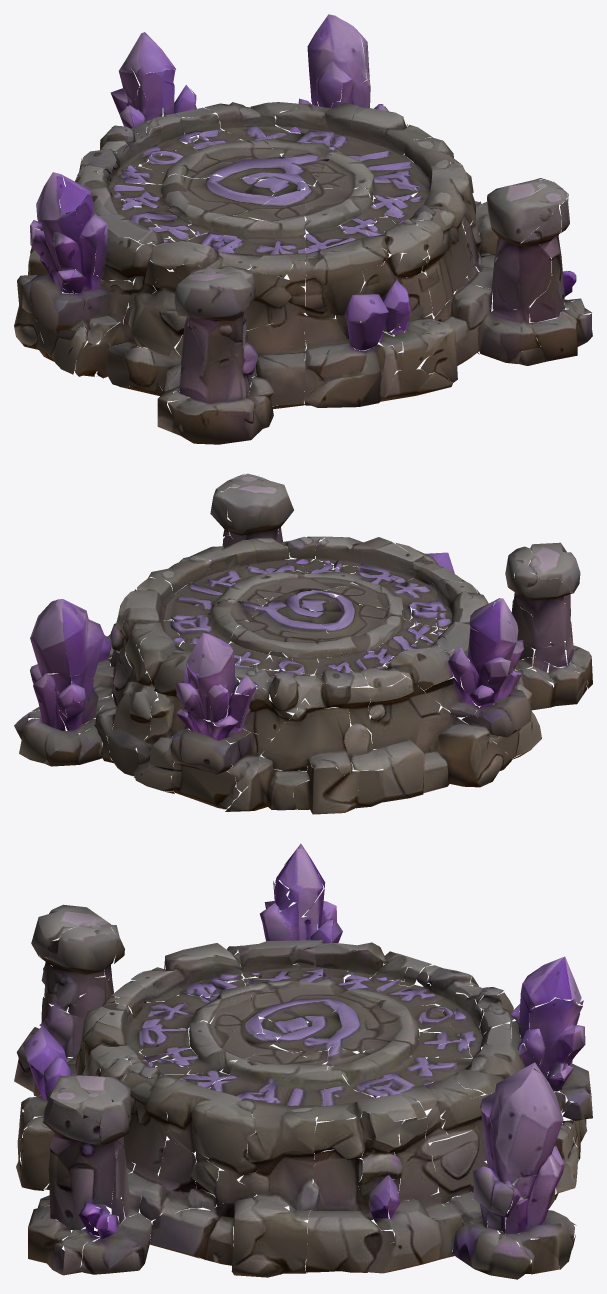
File: anchor-urdan.glb
The picture shows the model from 3 angles, top to bottom: view 1: azimuth 30°, elevation 25°; view 2: azimuth 150°, elevation 25°; view 3: azimuth 270°, elevation 25°; orthographic projection. The views are drawn at different scales.
Parts seen in each view (by area): view 1: tripo_node_cabecb70-00cd-4178-a72c-36be5413a41b; view 2: tripo_node_cabecb70-00cd-4178-a72c-36be5413a41b; view 3: tripo_node_cabecb70-00cd-4178-a72c-36be5413a41b.
Part boxes in pixels (x1,y1,x2,y2): tripo_node_cabecb70-00cd-4178-a72c-36be5413a41b: (14, 14, 592, 444); tripo_node_cabecb70-00cd-4178-a72c-36be5413a41b: (14, 473, 592, 814); tripo_node_cabecb70-00cd-4178-a72c-36be5413a41b: (14, 843, 592, 1279).
Bounding box in the file's own units: 0.9917 × 0.3933 × 1.
1 material, 1 textured.
